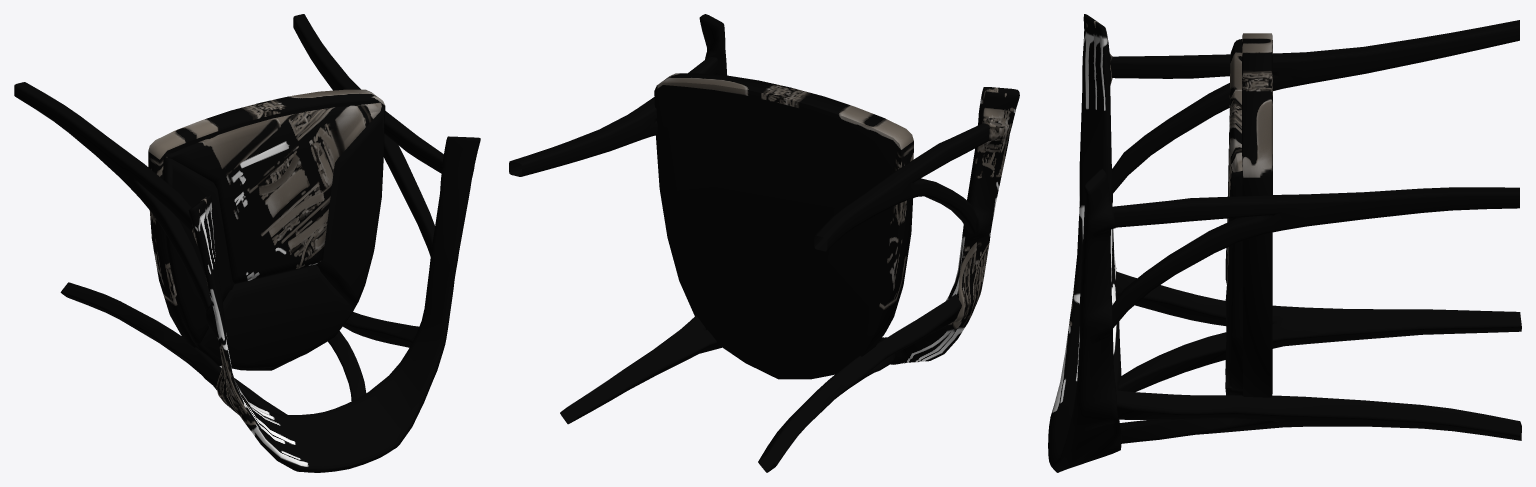
The picture shows the model from 3 angles, left to right: view 1: azimuth 30°, elevation 25°; view 2: azimuth 150°, elevation 25°; view 3: azimuth 270°, elevation 25°; orthographic projection. The views are drawn at different scales.
Size of the model in its own units: 0.5485 by 0.5402 by 0.6248.
